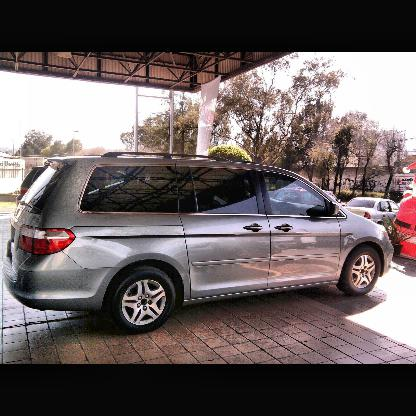Honda Odyssey Minivan 2007: (3, 153, 395, 336)
